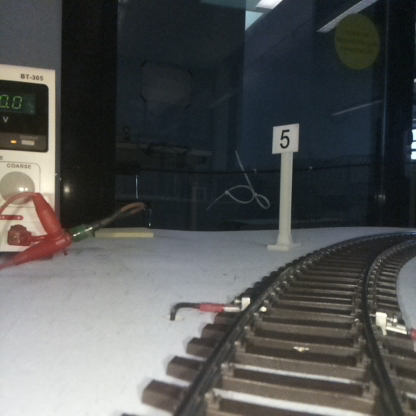white-info-5: (272, 123, 298, 251)
